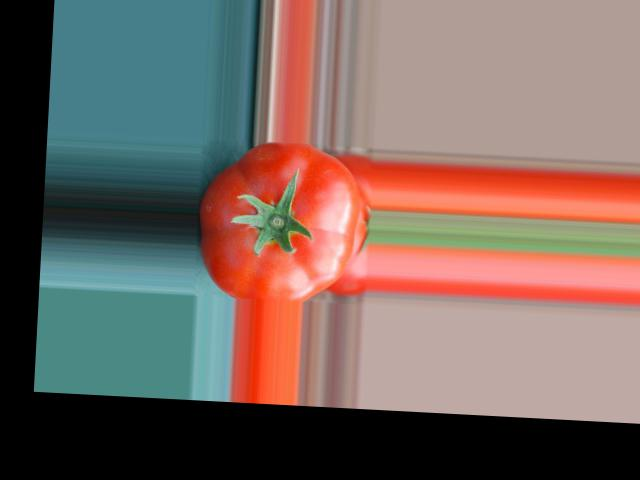tomato: (196, 136, 363, 304)
